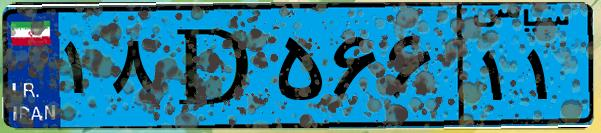1: (57, 26, 110, 100), (475, 38, 525, 113), (525, 38, 570, 115)
5: (270, 28, 330, 110)
6: (385, 28, 445, 110), (330, 28, 385, 110)
8: (110, 28, 158, 98)
D: (158, 12, 270, 120)
